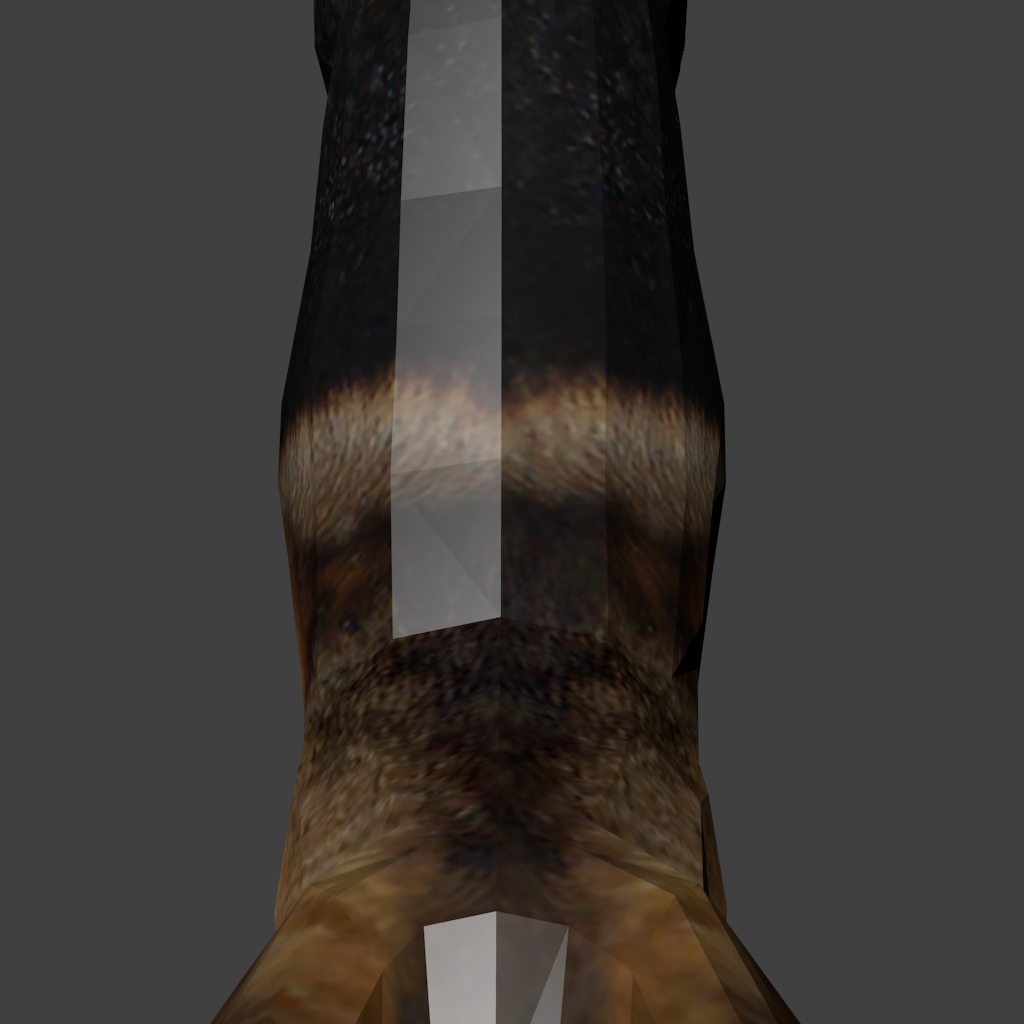Dog: (117, 0, 771, 1024)
